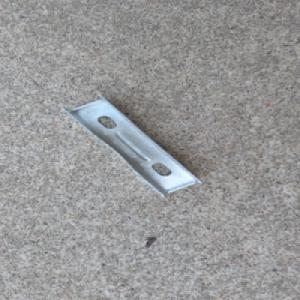ClampPart: (61, 94, 203, 197)
